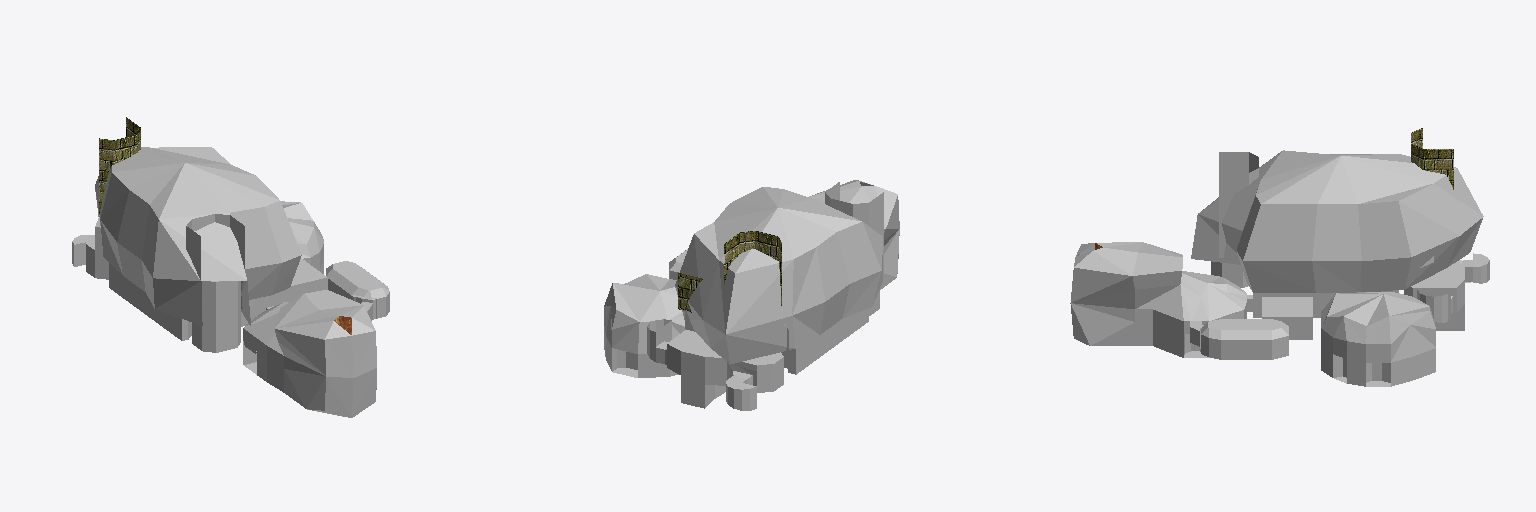
3 renders of one model, left to right at view 1: azimuth 30°, elevation 25°; view 2: azimuth 150°, elevation 25°; view 3: azimuth 270°, elevation 25°, orthographic.
Parts seen in each view (by area): view 1: Floor4#Room0, Floor4#Room2, Floor4#Room3, Floor4#Room4, Floor4#Room5, Floor4#Room1; view 2: Floor4#Room0, Floor4#Room5, Floor4#Room4, Floor4#Room2; view 3: Floor4#Room0, Floor4#Room2, Floor4#Room4, Floor4#Room3, Floor4#Room5, Floor4#Room1.
Boxes of the visible parts, <box> form: Floor4#Room0: <box>95,117,301,352</box>; Floor4#Room2: <box>243,290,376,417</box>; Floor4#Room3: <box>326,261,389,320</box>; Floor4#Room4: <box>281,201,323,273</box>; Floor4#Room5: <box>72,235,108,279</box>; Floor4#Room1: <box>286,259,327,301</box>; Floor4#Room0: <box>675,182,883,374</box>; Floor4#Room5: <box>647,319,783,410</box>; Floor4#Room4: <box>604,274,685,377</box>; Floor4#Room2: <box>809,180,899,289</box>; Floor4#Room0: <box>1191,128,1483,317</box>; Floor4#Room2: <box>1070,242,1249,357</box>; Floor4#Room4: <box>1321,292,1435,386</box>; Floor4#Room3: <box>1190,319,1288,359</box>; Floor4#Room5: <box>1404,253,1489,330</box>; Floor4#Room1: <box>1262,297,1312,339</box>.
Size of the model in its own units: 1775 by 1350 by 2972.
28 materials, 12 textured.